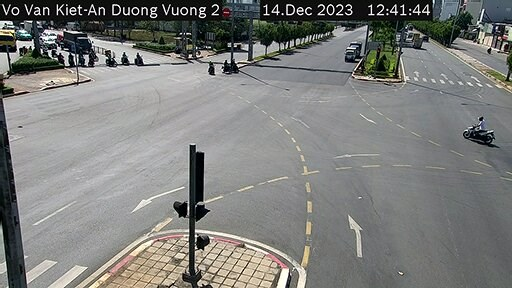motorbike: (461, 115, 499, 145), (215, 59, 230, 78), (204, 62, 217, 80), (133, 51, 146, 66), (122, 48, 129, 68), (230, 61, 238, 73)
truck: (58, 29, 91, 52), (346, 32, 369, 54), (341, 42, 355, 66)
